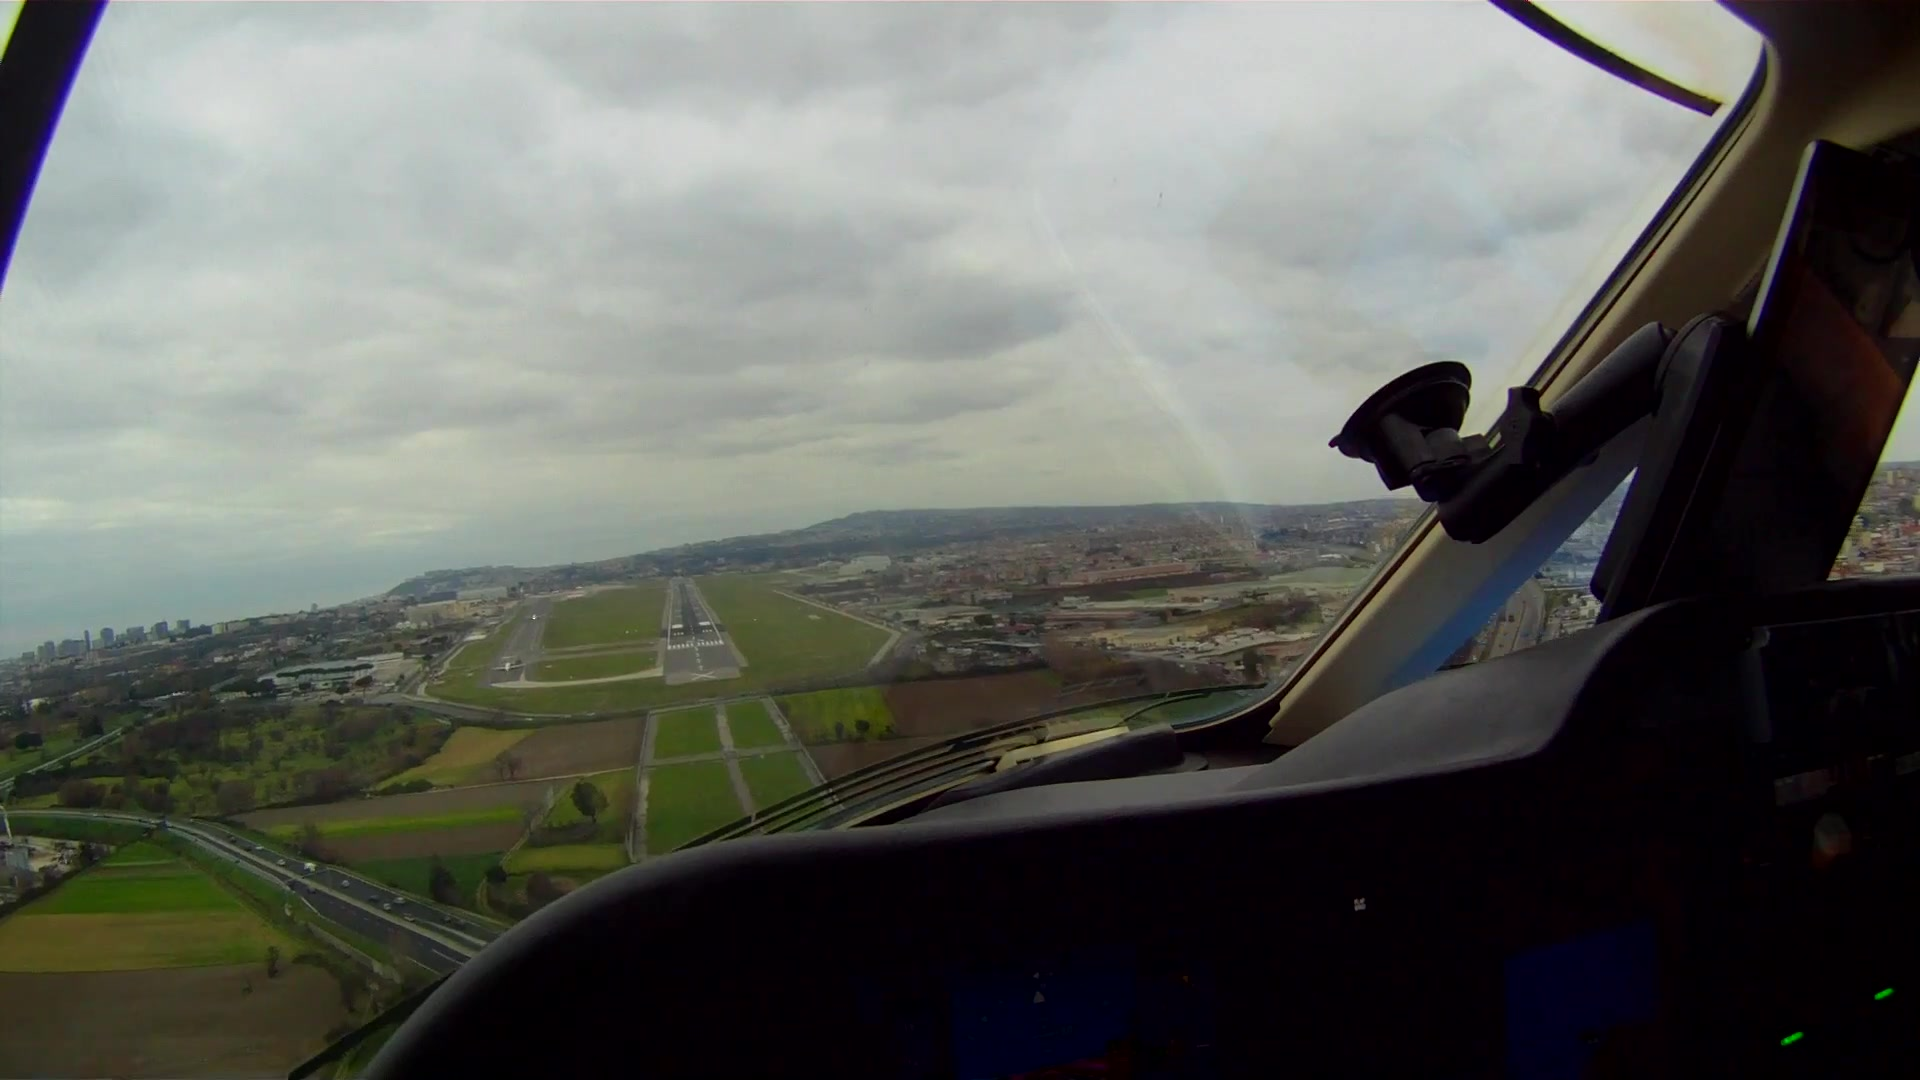entrance: (667, 640, 723, 651)
runway: (662, 579, 746, 678)
